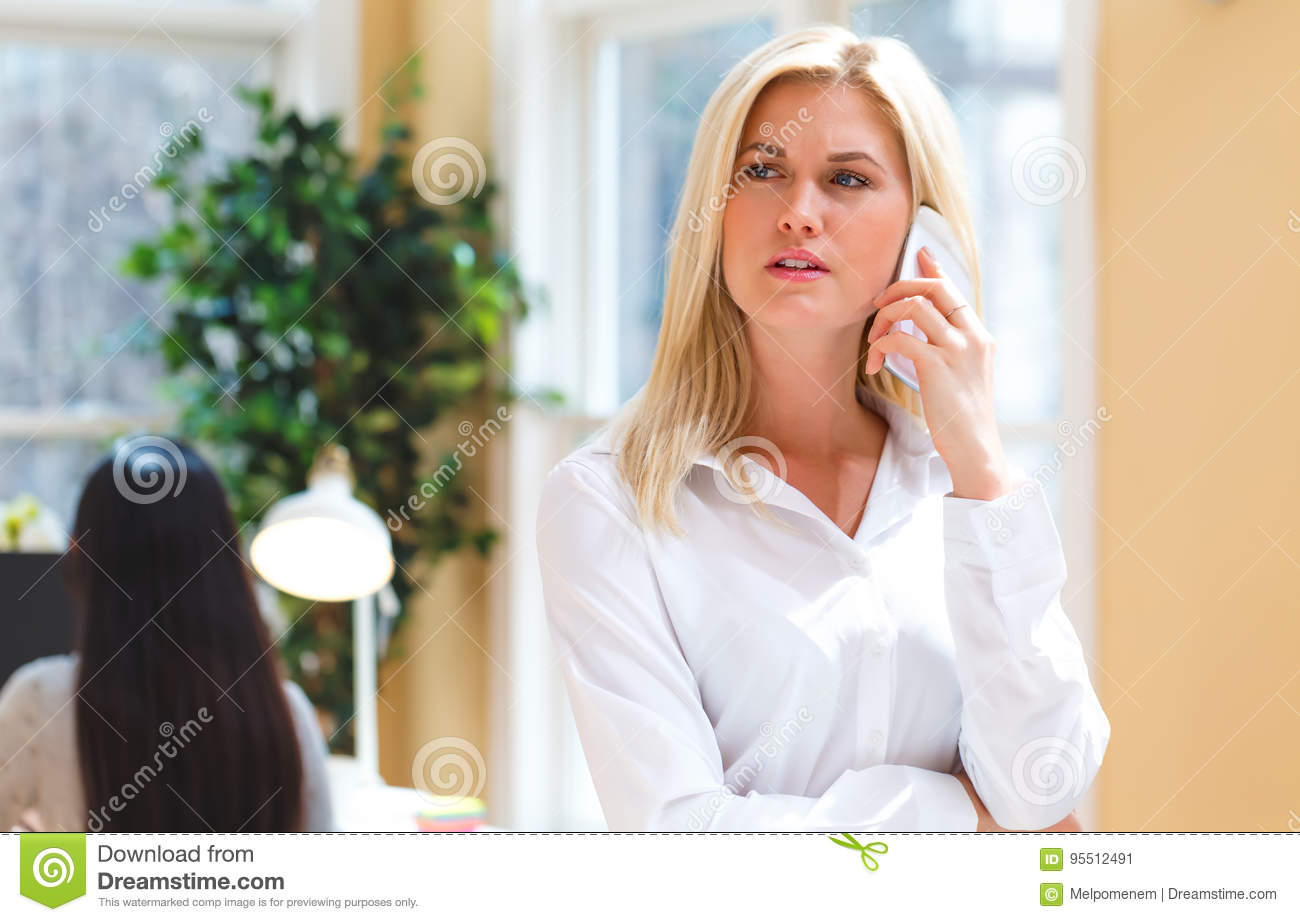phone: (881, 201, 970, 396)
talk: (728, 137, 1004, 490)
